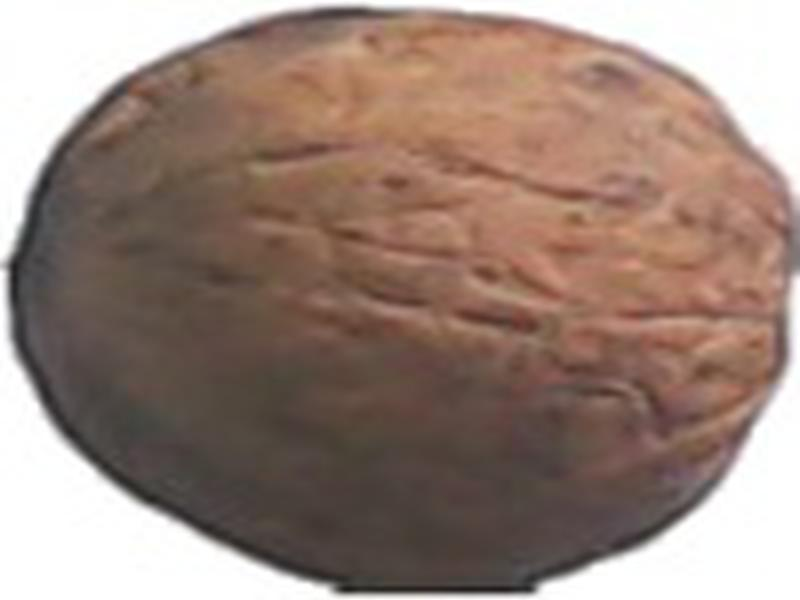walnut: (1, 8, 800, 592)
